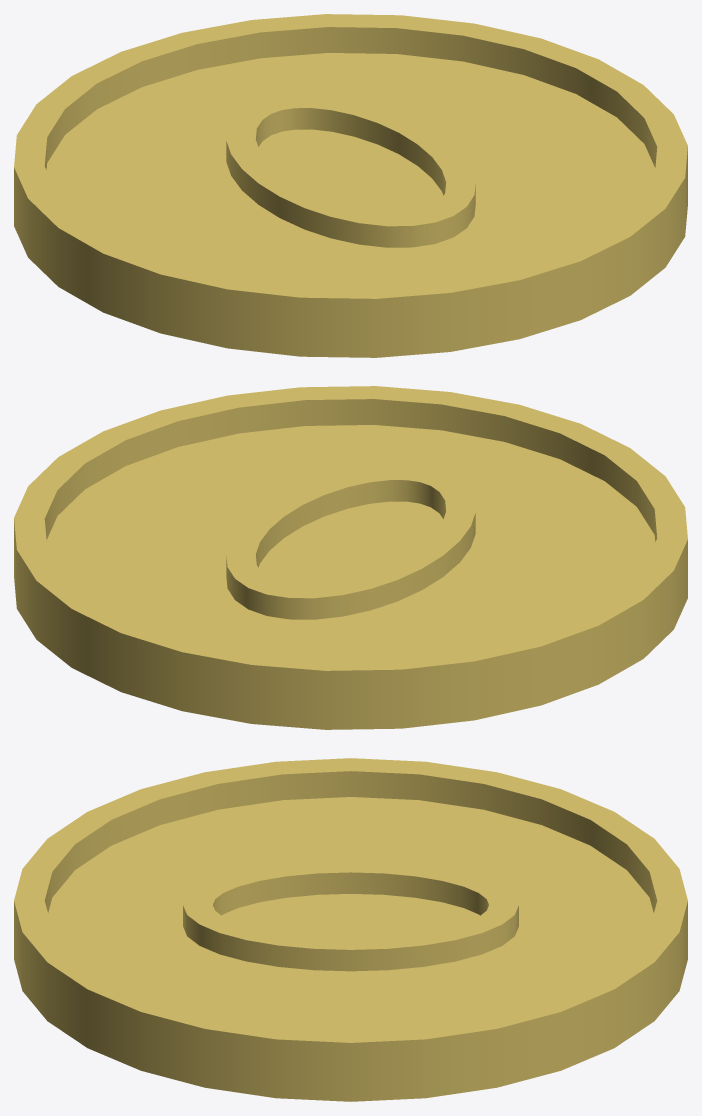
The model's file is Coin Single 1 .fbx.
3 views of the same model, one above another, from view 1: azimuth 30°, elevation 25°; view 2: azimuth 150°, elevation 25°; view 3: azimuth 270°, elevation 25° (orthographic).
Parts seen in each view (by area): view 1: Coin.001; view 2: Coin.001; view 3: Coin.001.
Boxes of the visible parts, x1,y1,x2,y2 form: Coin.001: (14, 14, 687, 357); Coin.001: (14, 386, 687, 729); Coin.001: (14, 758, 687, 1101).
Bounding box in the file's own units: 14.23 × 1.37 × 14.23.
